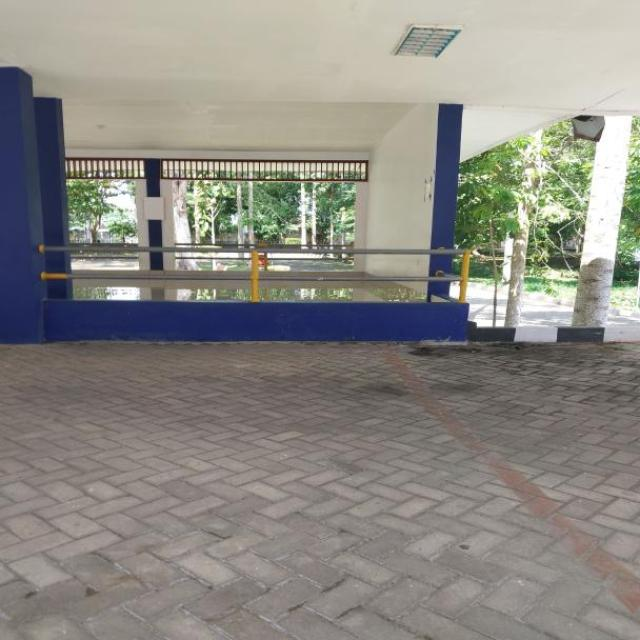barrier ahead at: (38, 243, 472, 335)
